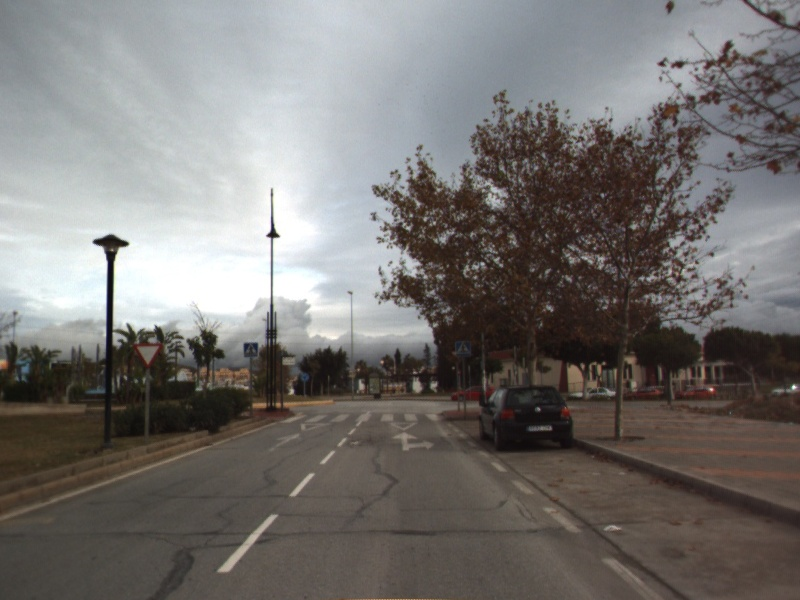STRAIGHT: (266, 430, 305, 453)
STRAIGHT_RIGHT: (390, 430, 436, 452)
